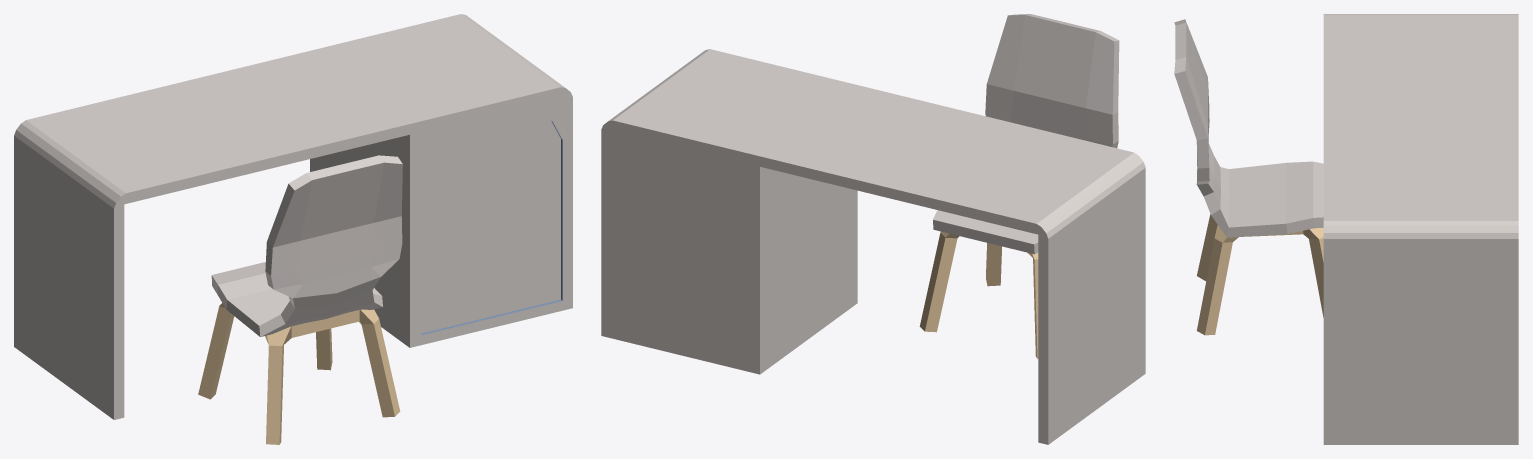
Rendered from Furn7_worktable_color1_joined.fbx.
3 views of the same model, side by side, from view 1: azimuth 30°, elevation 25°; view 2: azimuth 150°, elevation 25°; view 3: azimuth 270°, elevation 25° (orthographic). The views are drawn at different scales.
Parts seen in each view (by area): view 1: Plane.075; view 2: Plane.075; view 3: Plane.075.
Boxes of the visible parts, x1,y1,x2,y2 form: Plane.075: (14,14,572,444); Plane.075: (601,14,1145,444); Plane.075: (1174,14,1518,444).
Size of the model in its own units: 360 by 205 by 240.
